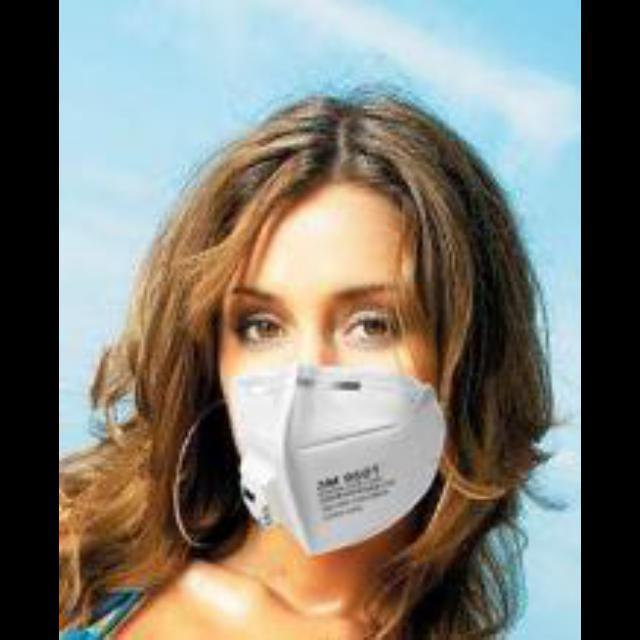suspicion: (169, 103, 483, 531)
